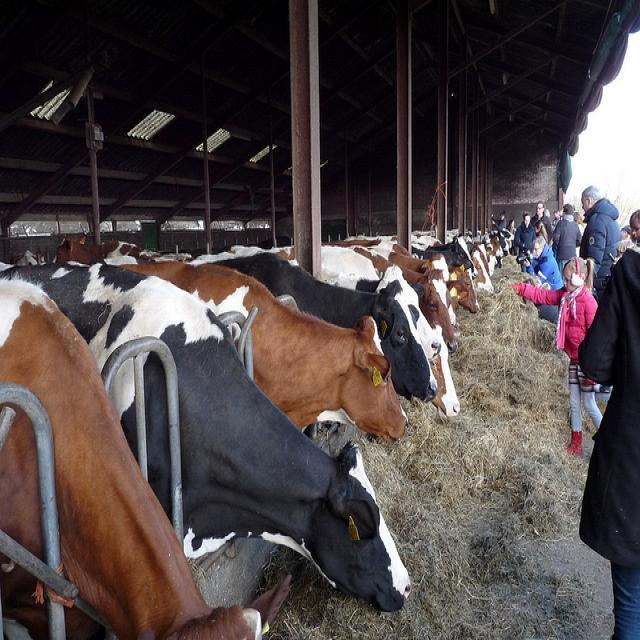cow: (13, 251, 415, 611), (0, 257, 287, 639), (153, 260, 406, 439), (205, 252, 434, 403), (319, 243, 441, 361), (340, 244, 458, 351), (339, 235, 461, 331), (430, 251, 478, 312), (411, 237, 472, 267), (465, 241, 493, 292), (497, 225, 516, 240)
